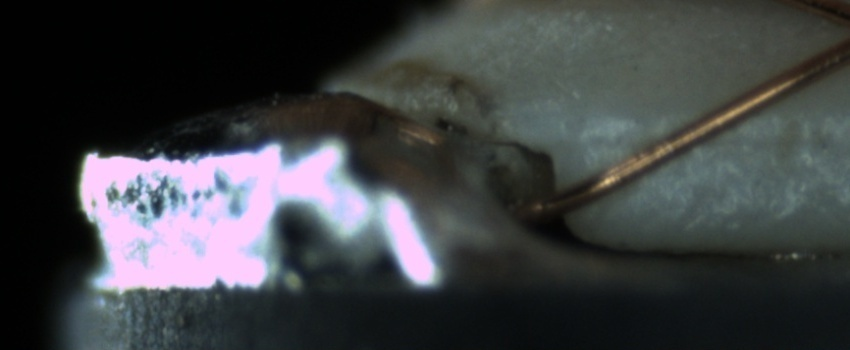CL: (832, 6, 850, 56)
DL: (609, 104, 850, 172)
